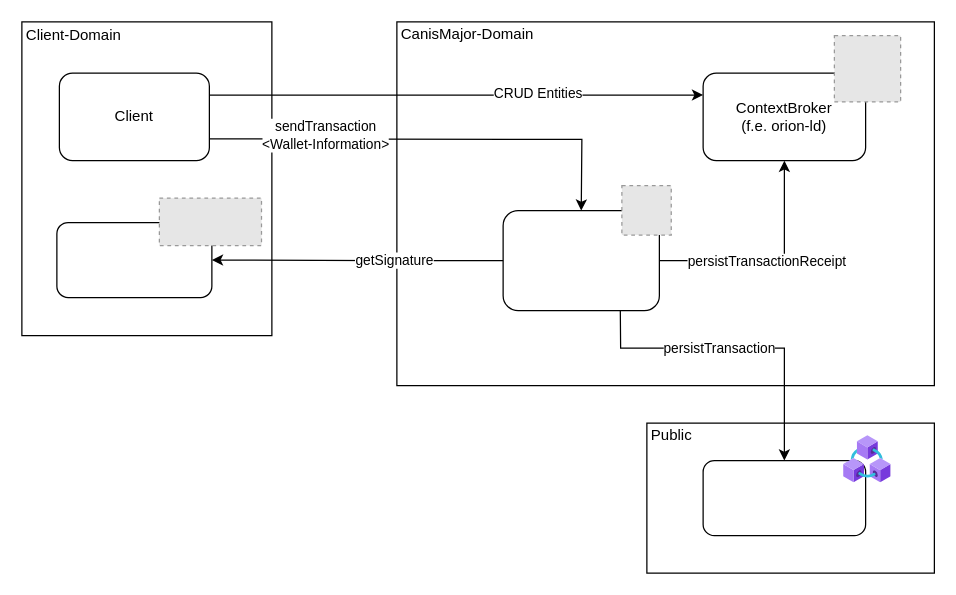
This 956x595 diagram has some shape labels left out. Grey dashed boxes stand in for pictures. The centre of each missing label's shape, as x and y in pixels:
"CanisMajor" belongs at (580,260).
"ETH-Compatible Node" belongs at (784,497).
"Wallet (Keystore, f.e. Vault)" belongs at (134,259).
